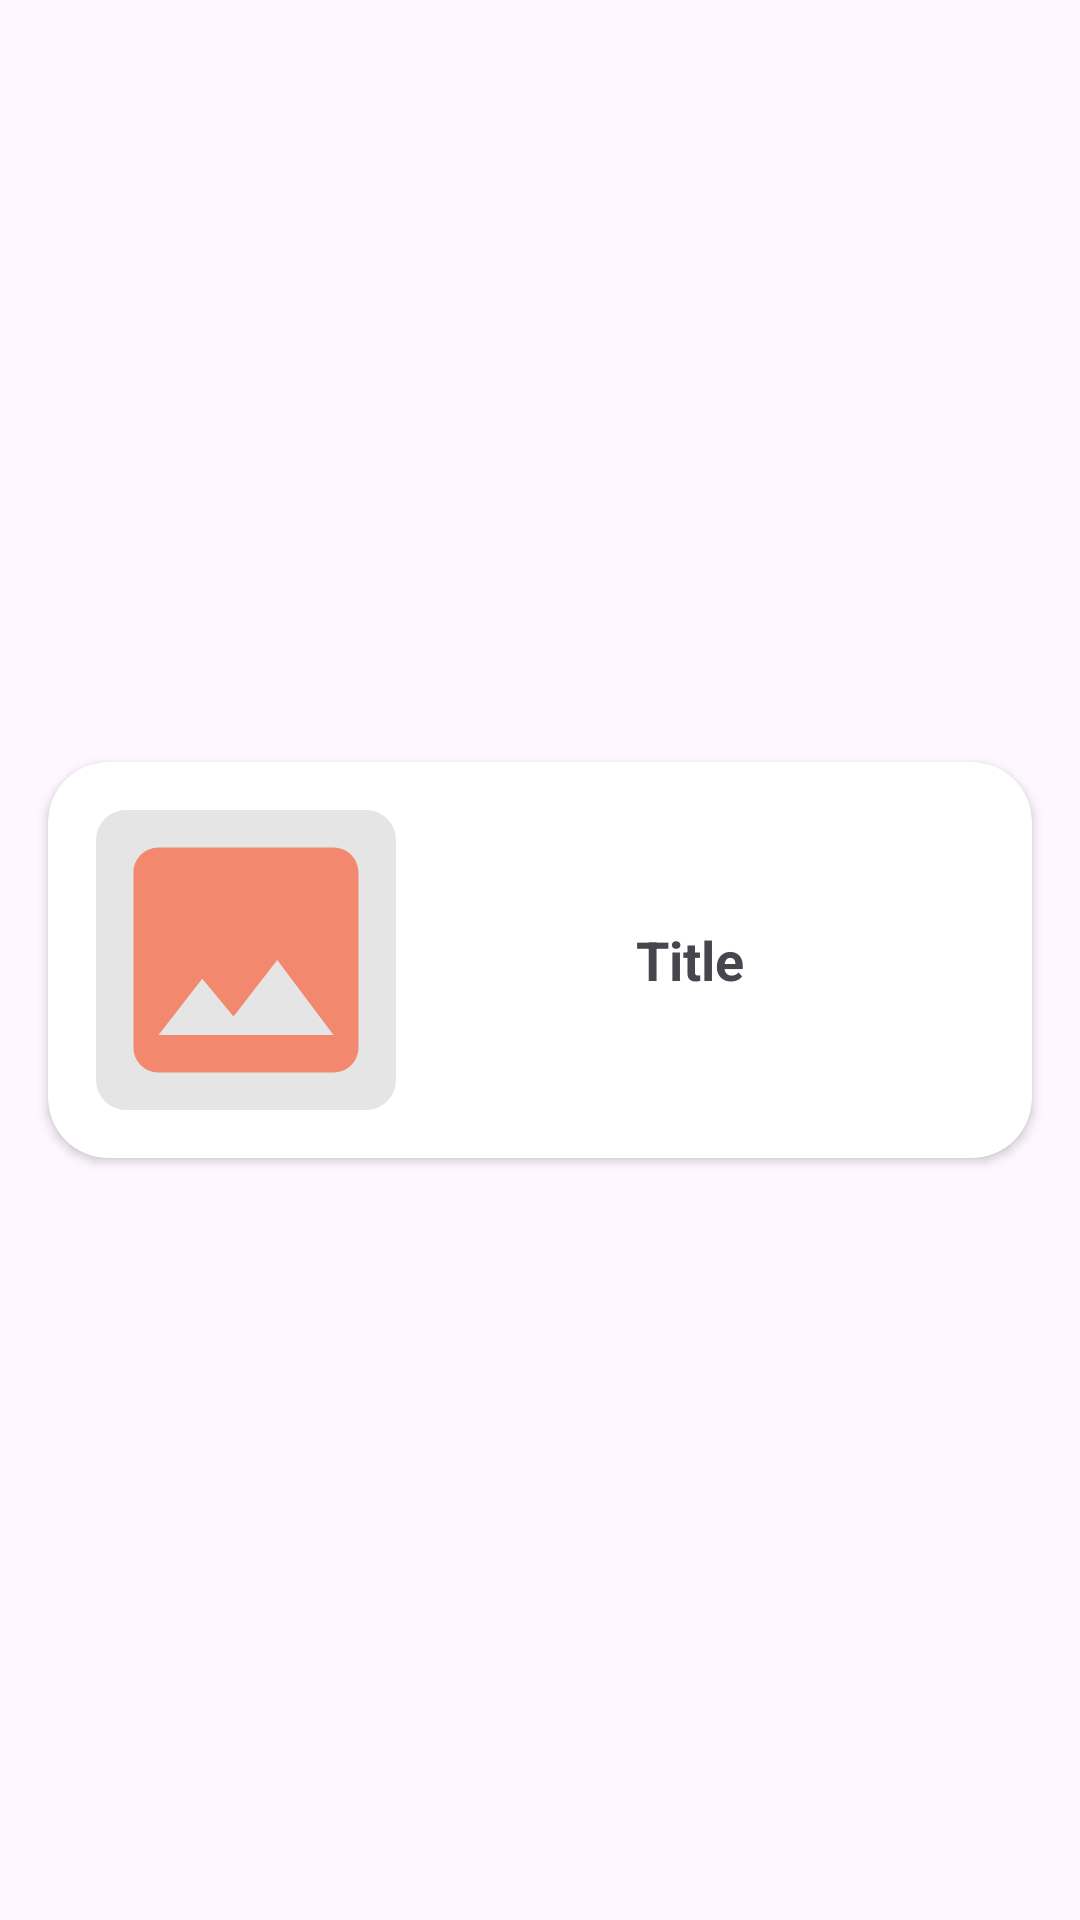

Locate icon controls on the screen. Image size 1080*1920, boxes as (x1, y1, x2, y2).
insert photo: (96, 810, 396, 1110)
